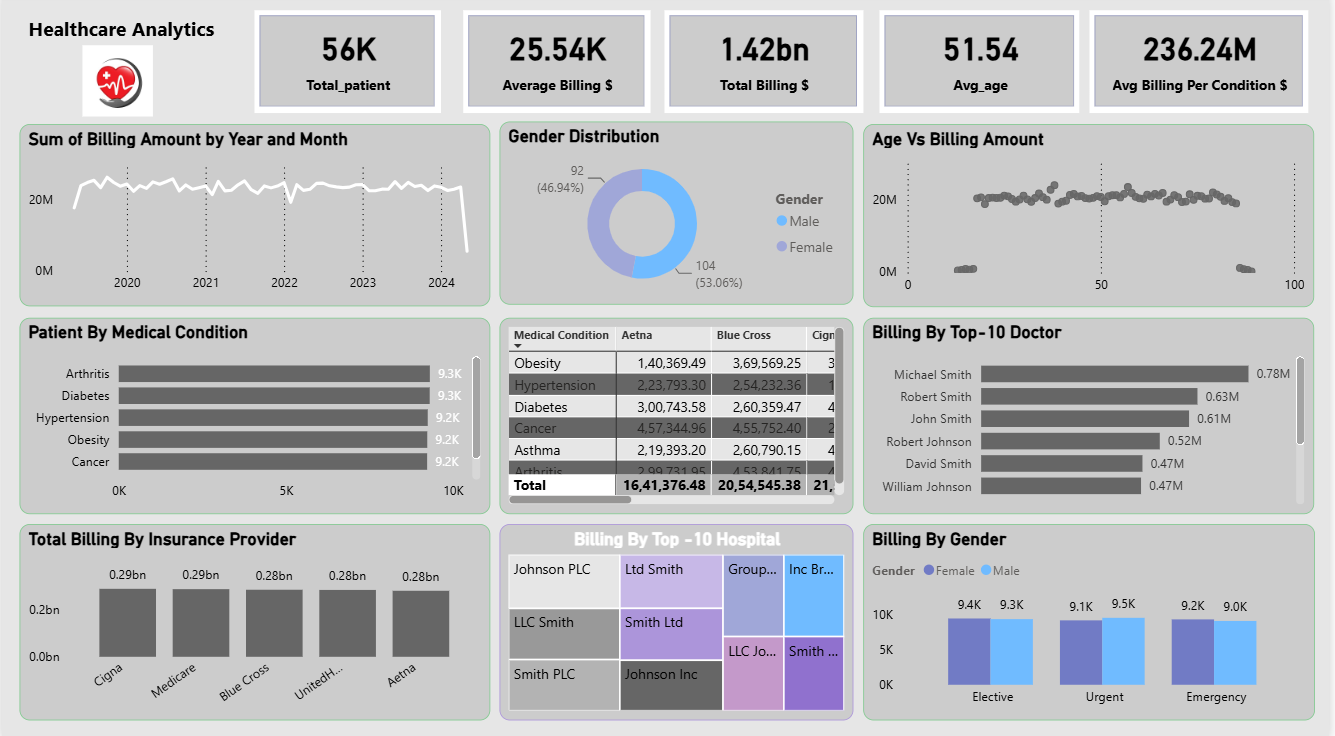

Layout of this report page (visuals, bound fields, positions):
{"tool":"powerbi","page":{"name":"Page 1","canvas":[1280,720],"ordinal":0},"visuals":[{"type":"cardVisual","fields":{"Data":["healthcare_dataset.Avg_billing_per_condition"]},"box":[1036,26.1,211.3,98.8],"z":1000},{"type":"cardVisual","fields":{"Data":["healthcare_dataset.Total_patient"]},"box":[220.4,26.1,193.5,94.7],"z":2000},{"type":"cardVisual","fields":{"Data":["healthcare_dataset.Avg_billing"]},"box":[424.3,26.1,193.5,94.7],"z":3000},{"type":"cardVisual","fields":{"Data":["healthcare_dataset.total_billing"]},"box":[628.2,26.1,193.5,94.7],"z":4000},{"type":"cardVisual","fields":{"Data":["healthcare_dataset.Avg_age"]},"box":[832.1,26.1,193.5,94.7],"z":5000},{"type":"lineChart","fields":{"Y":["Sum(healthcare_dataset.Billing Amount)"],"Category":["healthcare_dataset.Date of Admission.Variation.Date Hierarchy.Year","healthcare_dataset.Date of Admission.Variation.Date Hierarchy.Month"]},"box":[16.5,124.9,454.2,175.6],"z":6000},{"type":"clusteredBarChart","title":"Patient By Medical Condition","fields":{"Category":["healthcare_dataset.Medical Condition"],"Y":["CountNonNull(healthcare_dataset.Name)"]},"box":[16.5,312.9,454.2,189.4],"z":7000},{"type":"clusteredColumnChart","title":"Total Billing By Insurance Provider","fields":{"Category":["healthcare_dataset.Insurance Provider"],"Y":["Sum(healthcare_dataset.Billing Amount)"]},"box":[16.5,511.8,454.2,189.4],"z":8000},{"type":"clusteredBarChart","title":"Total Billing By Doctor- Top-10","fields":{"Category":["healthcare_dataset.Doctor"],"Y":["Sum(healthcare_dataset.Billing Amount)"]},"box":[831.6,312.9,435,189.4],"z":9000},{"type":"clusteredColumnChart","title":"Total Billing By Insurance Provider","fields":{"Category":["healthcare_dataset.Admission Type"],"Y":["CountNonNull(healthcare_dataset.Name)"],"Series":["healthcare_dataset.Gender"]},"box":[831.6,511.8,436.4,189.4],"z":10000},{"type":"donutChart","title":"Gender Distribution","fields":{"Category":["healthcare_dataset.Gender"],"Y":["CountNonNull(healthcare_dataset.Name)"]},"box":[480.3,123.5,341.7,177],"z":11000},{"type":"scatterChart","title":"Age Vs Billing Amount","fields":{"X":["healthcare_dataset.Age"],"Y":["Sum(healthcare_dataset.Billing Amount)"]},"box":[831.6,124.9,435,177],"z":12000},{"type":"treemap","title":"Biling By Hospital Top -10","fields":{"Values":["Sum(healthcare_dataset.Billing Amount)"],"Group":["healthcare_dataset.Hospital"]},"box":[480.3,511.8,341.7,189.4],"z":13000},{"type":"pivotTable","title":"Biling By Hospital Top -10","fields":{"Rows":["healthcare_dataset.Medical Condition"],"Columns":["healthcare_dataset.Insurance Provider"],"Values":["Sum(healthcare_dataset.Billing Amount)"]},"box":[480.3,312.9,341.7,189.4],"z":14000},{"type":"image","box":[0,57.6,204.5,67.2],"z":14001},{"type":"textbox","box":[0,15.1,220.9,59],"z":14002}]}

Visuals, with their boxes in screenshot pixels (x1, y1, x2, y2), scaled from the page's 1280x720 canvas onto the 1335x736 screenshot:
cardVisual - healthcare_dataset.Avg_billing_per_condition: Rect(1081, 27, 1301, 128)
cardVisual - healthcare_dataset.Total_patient: Rect(230, 27, 432, 123)
cardVisual - healthcare_dataset.Avg_billing: Rect(443, 27, 644, 123)
cardVisual - healthcare_dataset.total_billing: Rect(655, 27, 857, 123)
cardVisual - healthcare_dataset.Avg_age: Rect(868, 27, 1070, 123)
lineChart - Sum(healthcare_dataset.Billing Amount) x healthcare_dataset.Date of Admission.Variation.Date Hierarchy.Year: Rect(17, 128, 491, 307)
"Patient By Medical Condition" clusteredBarChart: Rect(17, 320, 491, 513)
"Total Billing By Insurance Provider" clusteredColumnChart: Rect(17, 523, 491, 717)
"Total Billing By Doctor- Top-10" clusteredBarChart: Rect(867, 320, 1321, 513)
"Total Billing By Insurance Provider" clusteredColumnChart: Rect(867, 523, 1322, 717)
"Gender Distribution" donutChart: Rect(501, 126, 857, 307)
"Age Vs Billing Amount" scatterChart: Rect(867, 128, 1321, 309)
"Biling By Hospital Top -10" treemap: Rect(501, 523, 857, 717)
"Biling By Hospital Top -10" pivotTable: Rect(501, 320, 857, 513)
image: Rect(0, 59, 213, 128)
textbox: Rect(0, 15, 230, 76)
